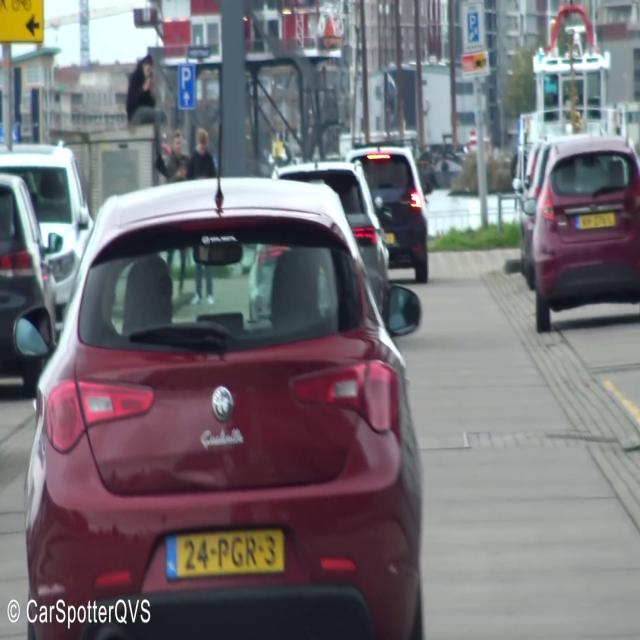number_plate: (164, 524, 286, 572)
